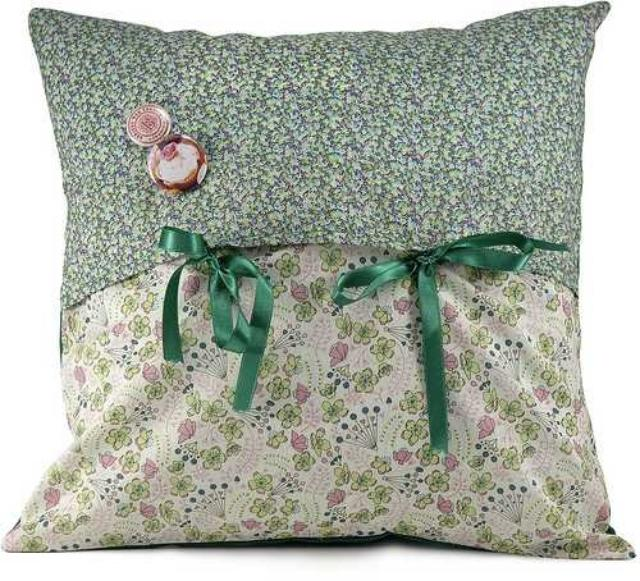pillow: (2, 0, 634, 560)
